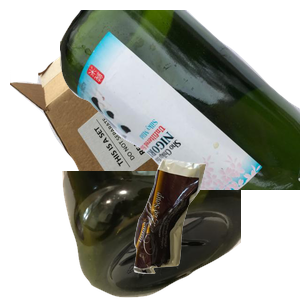cardboard: (10, 10, 227, 190)
glass: (60, 10, 300, 190)
plastic: (60, 171, 300, 300)
trash: (131, 157, 300, 300)
